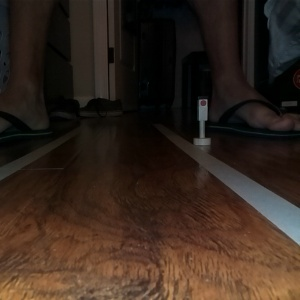traffic light red: (191, 94, 213, 147)
